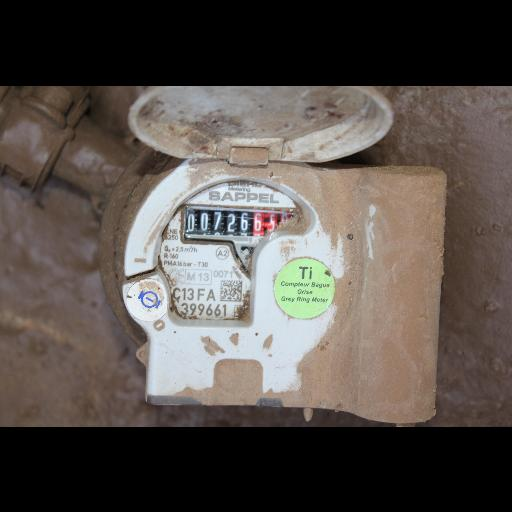0: (185, 207, 197, 233), (199, 208, 210, 234)
2: (225, 209, 237, 235)
5: (267, 212, 280, 235)
6: (239, 210, 251, 236), (253, 211, 265, 236)
7: (212, 209, 223, 235)
8: (280, 213, 293, 224)
border_water_meter_number: (185, 205, 307, 243)
